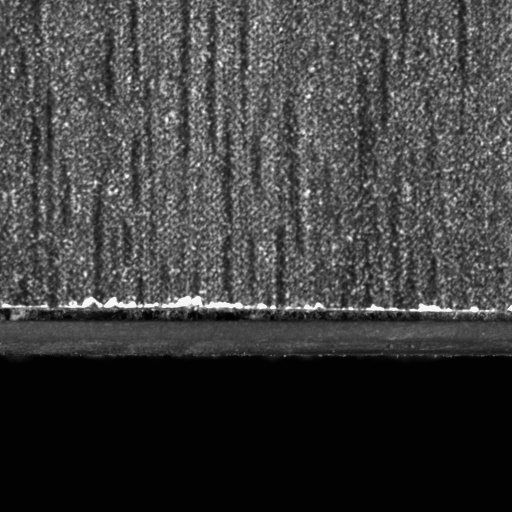kaijiao: (0, 300, 511, 362)
